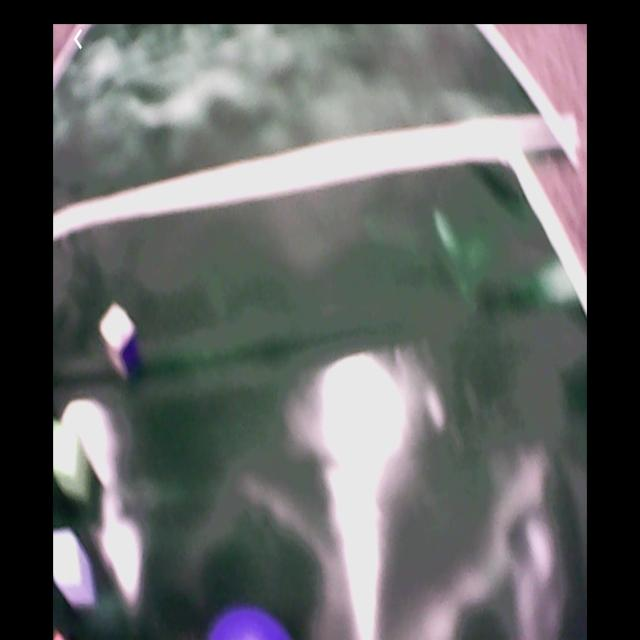ball: (210, 611, 291, 640)
